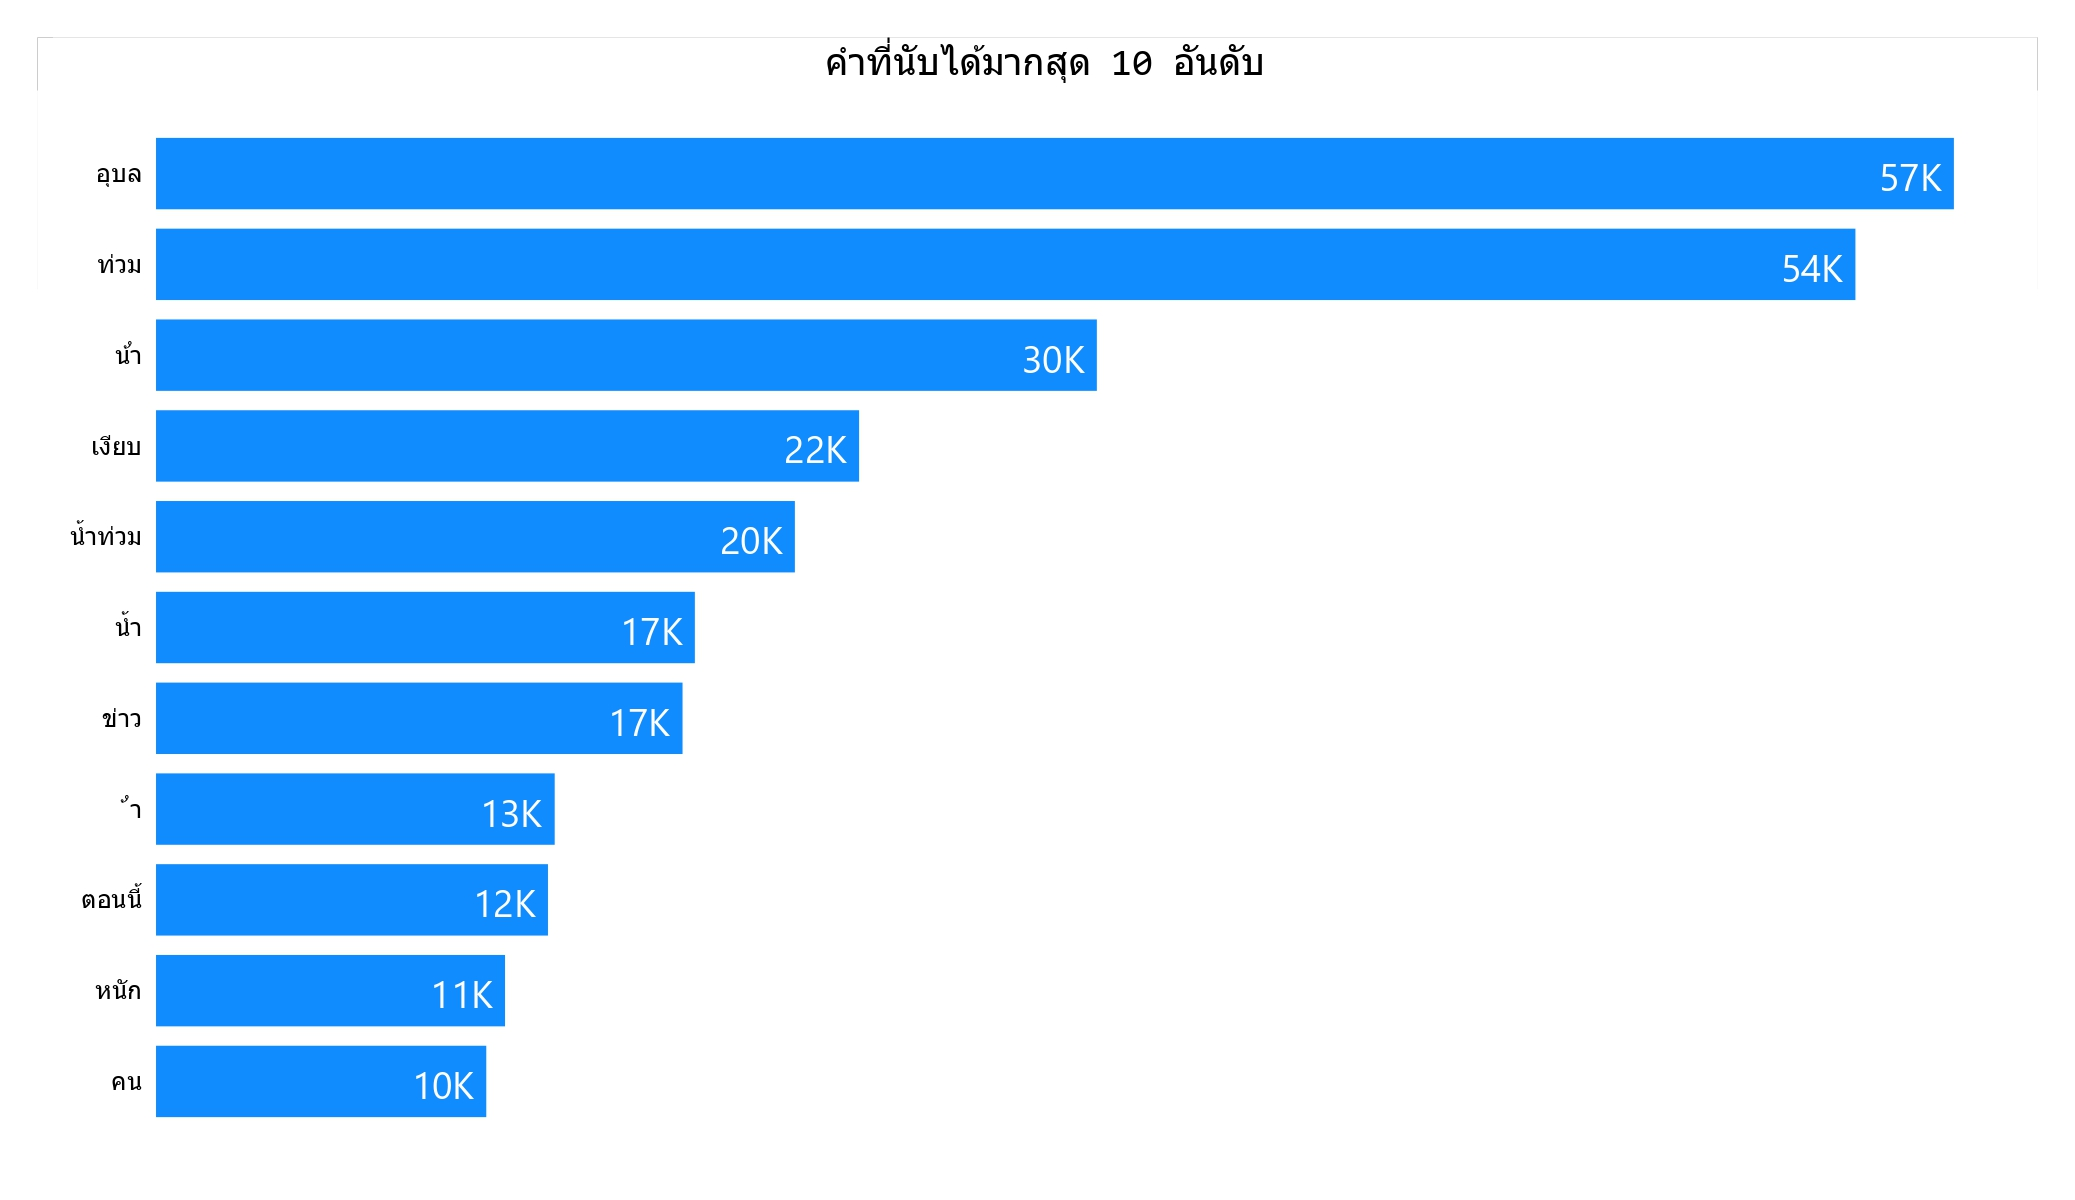

What the dashboard file says about the page in this screenshot:
{"tool":"powerbi","page":{"name":"Page 1","canvas":[1280,720],"ordinal":0},"visuals":[{"type":"clusteredBarChart","title":"คำที่นับได้มากสุด 10 อันดับ","fields":{"Y":["Sum(Sheet1.count)"],"Category":["Sheet1.word"]},"box":[9.9,0,1269.9,720],"z":0}]}

Visuals, with their boxes in screenshot pixels (x1, y1, x2, y2):
"คำที่นับได้มากสุด 10 อันดับ" clusteredBarChart: (left=53, top=38, right=2037, bottom=1162)
